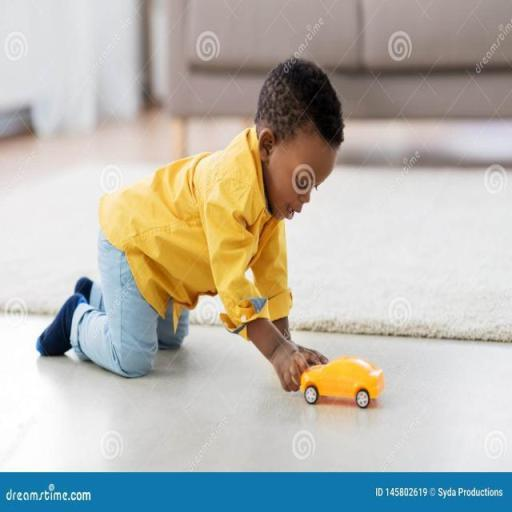baby: (31, 59, 347, 395)
